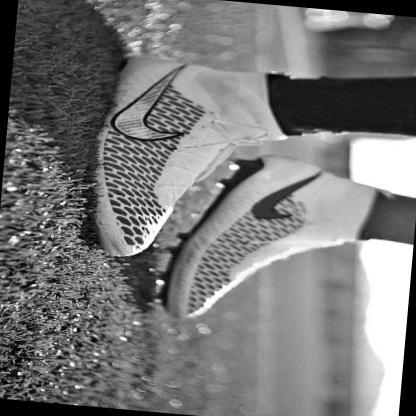ankle: (313, 197, 328, 205), (227, 80, 236, 89)
heel: (269, 160, 279, 167), (128, 59, 136, 66)
left_foot: (167, 149, 395, 337)
pinky: (111, 199, 117, 205), (210, 301, 214, 304)
right_foot: (91, 57, 270, 271)
toe: (184, 301, 190, 306), (147, 238, 153, 243)
